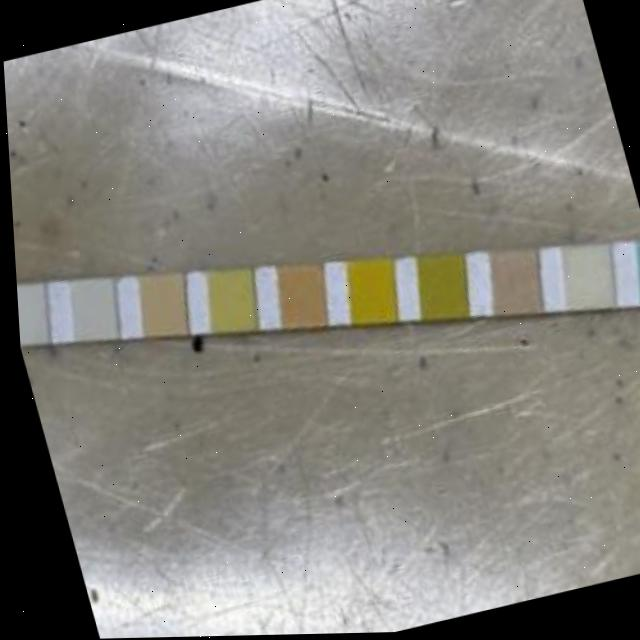Bilirubin: (556, 247, 612, 311)
Blood: (341, 259, 392, 327)
Glucose: (632, 248, 640, 308)
Ketone: (485, 250, 539, 318)
Leukocytes: (13, 285, 44, 344)
Nitrite: (64, 277, 116, 341)
Protein: (202, 270, 252, 335)
SpGravity: (414, 256, 465, 322)
Urobilinogen: (133, 274, 185, 339)
pH: (272, 264, 322, 329)
